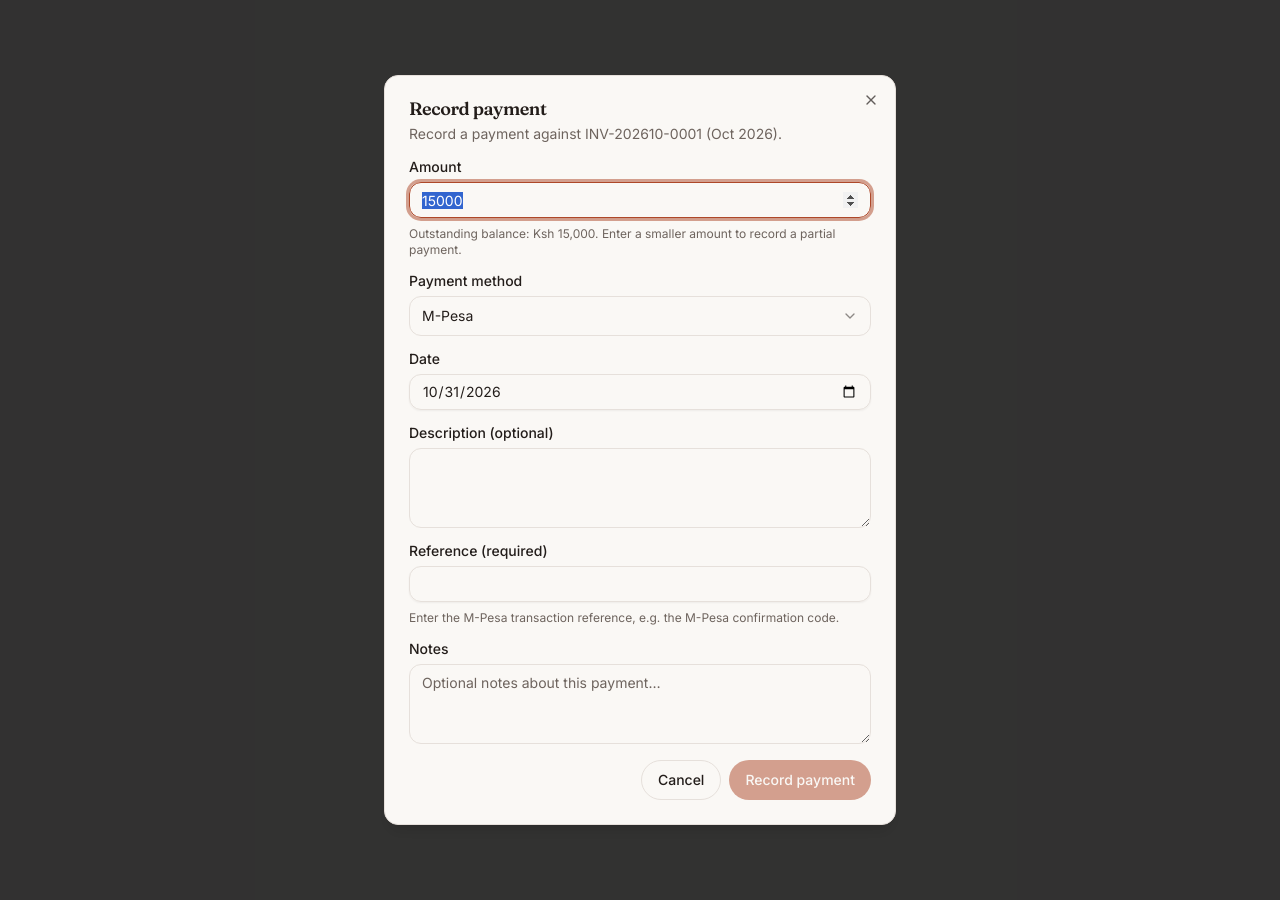
Test: RecordPaymentDialog › requires a reference for a cheque payment
This screenshot has width=1280, height=900.
Click the dropdown at (448, 316), box [409, 296, 871, 336]
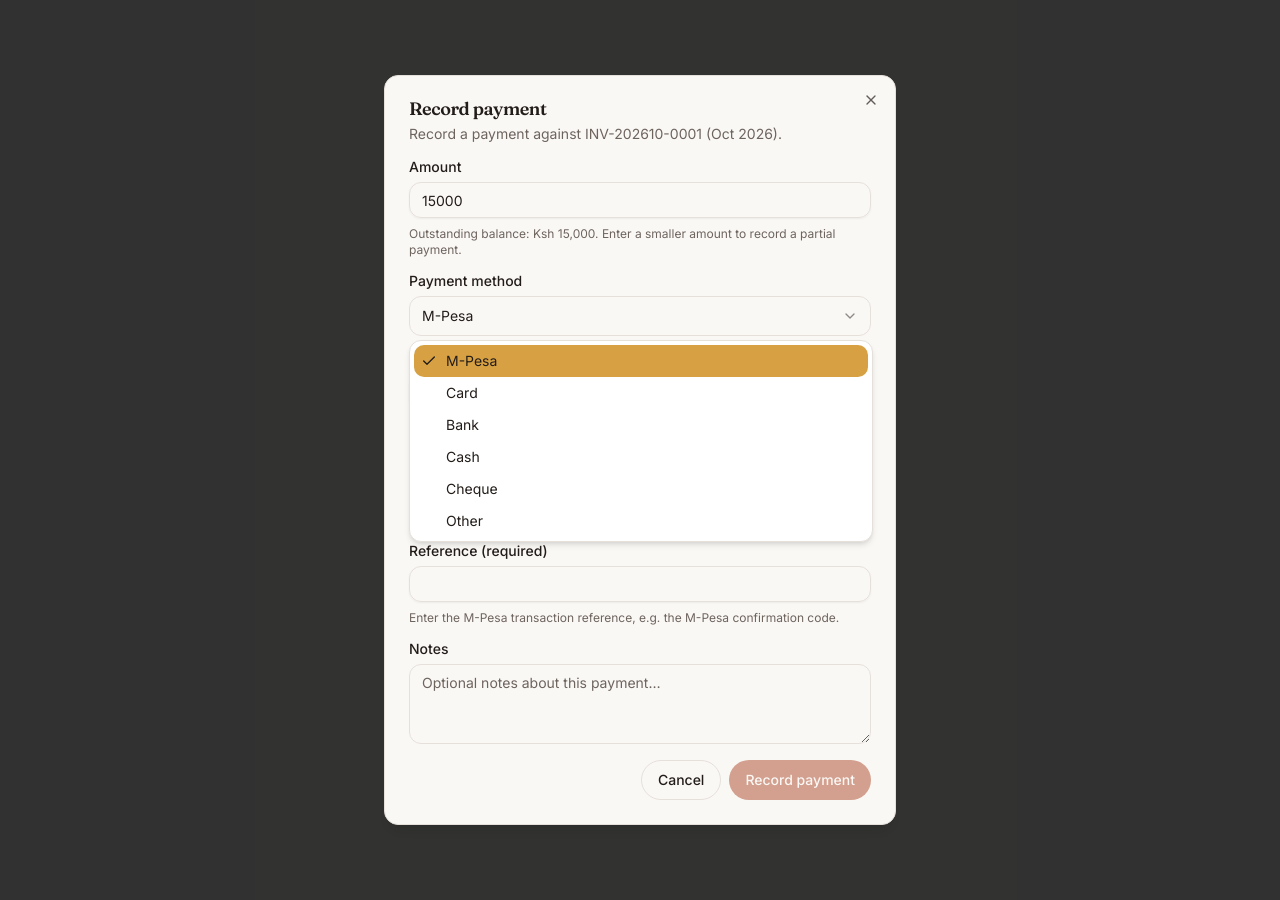
Click the option "Cheque" at (472, 488), box [446, 480, 498, 497]
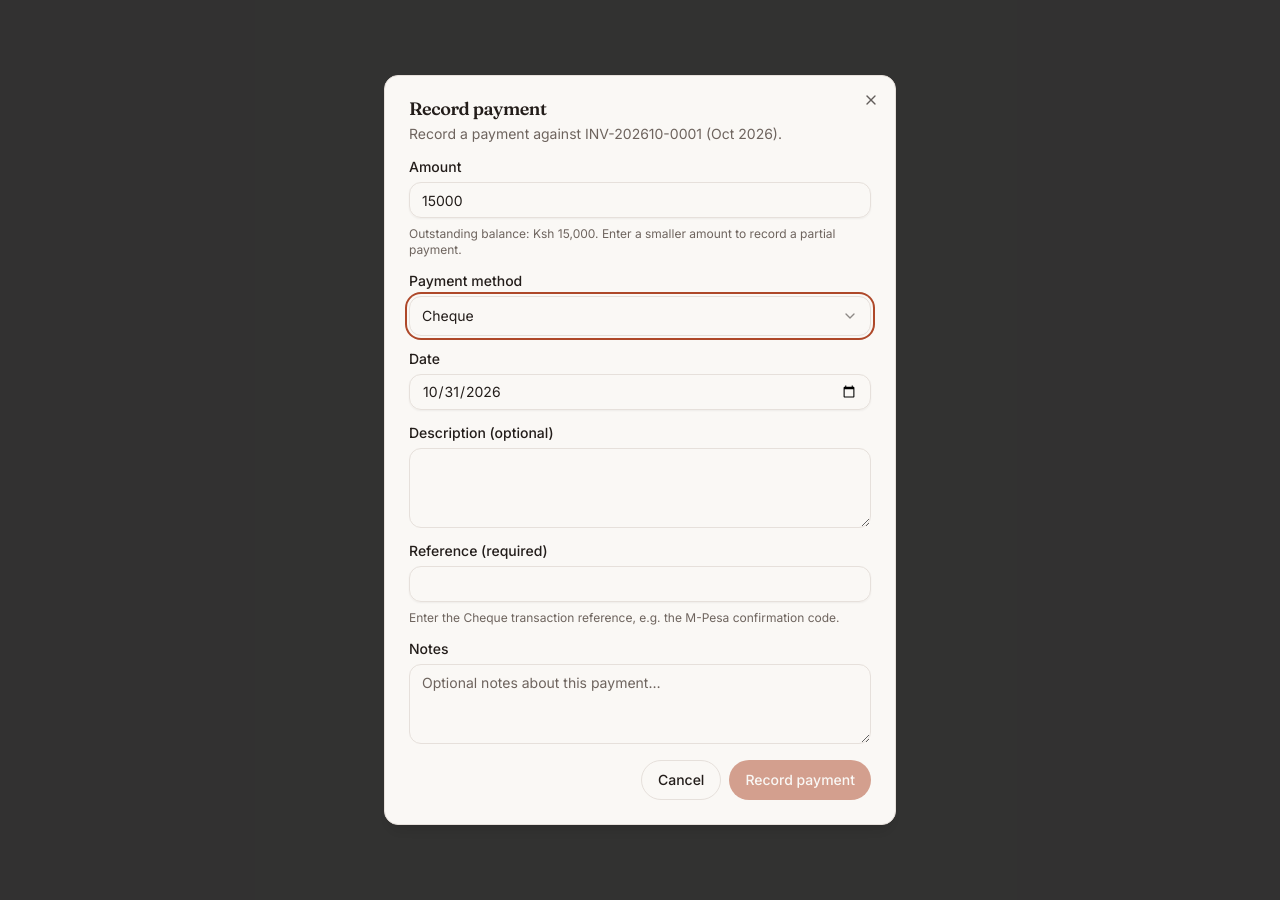
Expected: the text "transaction reference" is shown, [508, 610, 840, 625]
Expected: the button "Record payment" is disabled, [729, 760, 871, 800]
Type "CHQ-001" into the field labelled "Reference (required)" at (640, 584), box [409, 566, 871, 602]
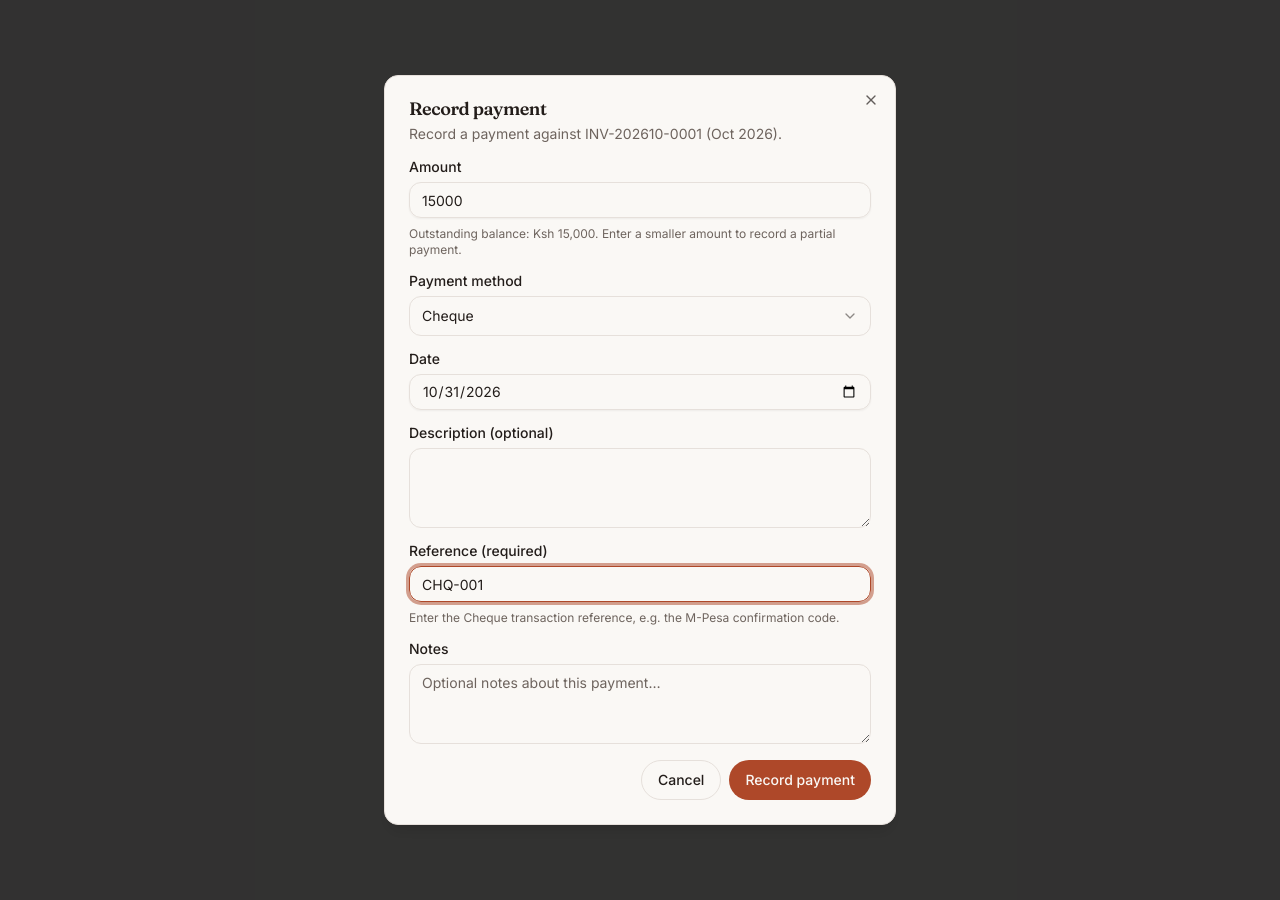
Result: the button "Record payment" is enabled at [729, 760, 871, 800]
